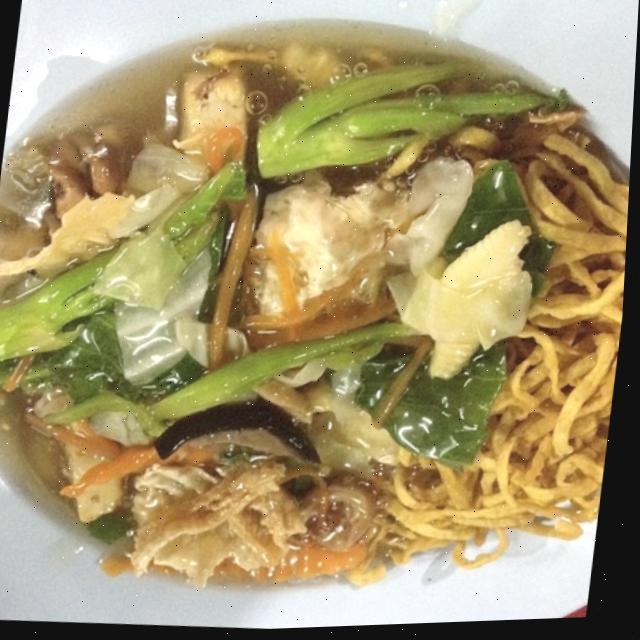面条主食: (0, 46, 637, 613)
